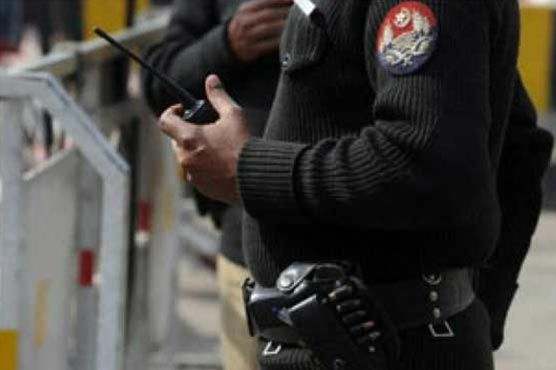gun: (224, 262, 405, 351)
